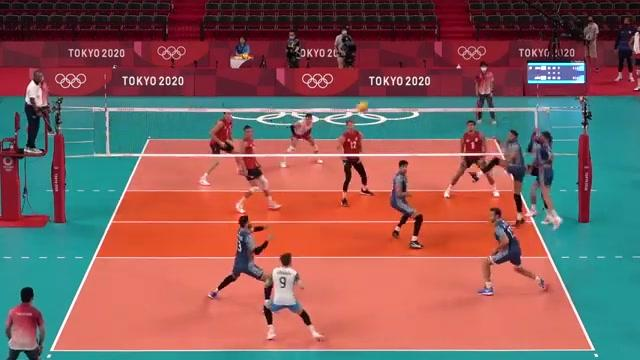ball: (355, 99, 370, 114)
